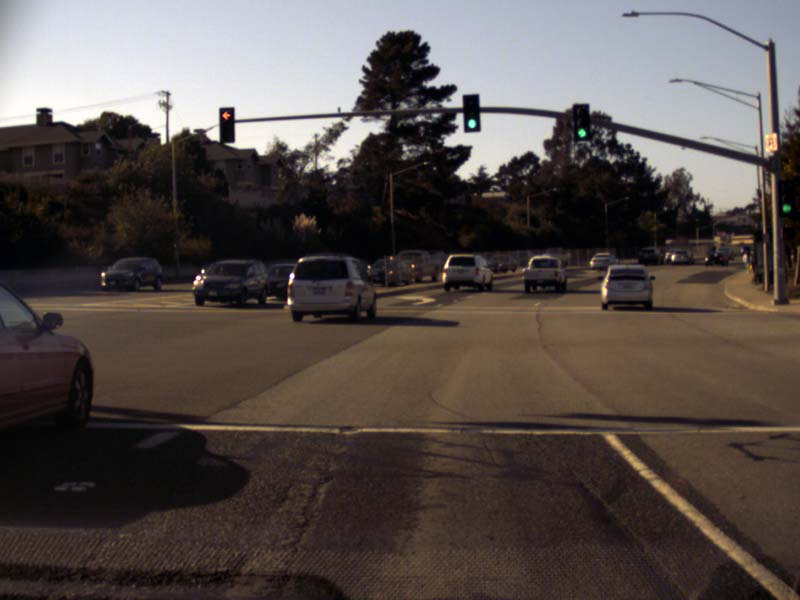Green: (462, 95, 479, 131), (573, 105, 589, 139), (779, 181, 794, 214)
Red: (218, 108, 234, 143)
